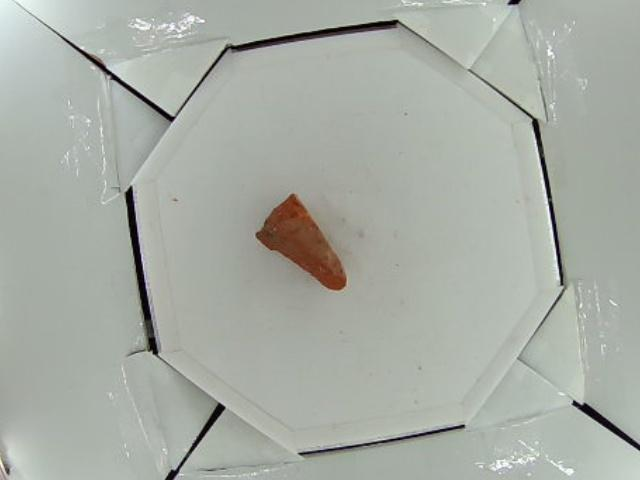Brisk: (255, 193, 347, 292)
